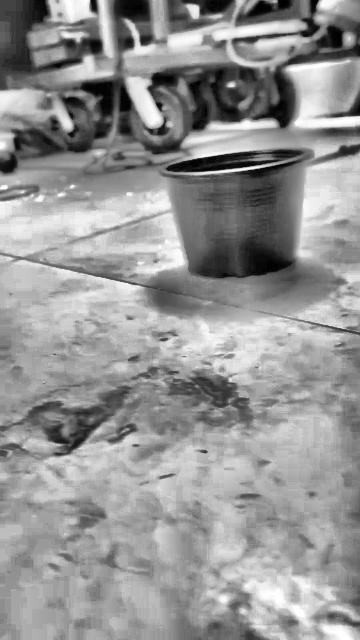pot: (156, 147, 315, 278)
